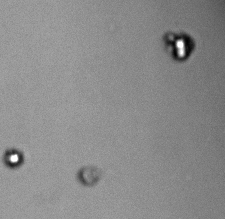Dead Cell: (80, 167, 100, 186)
Living Cell: (170, 33, 194, 61), (4, 150, 23, 168)
